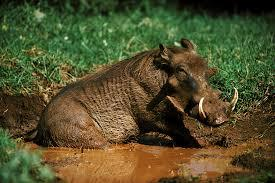wildboar: (17, 35, 244, 151)
